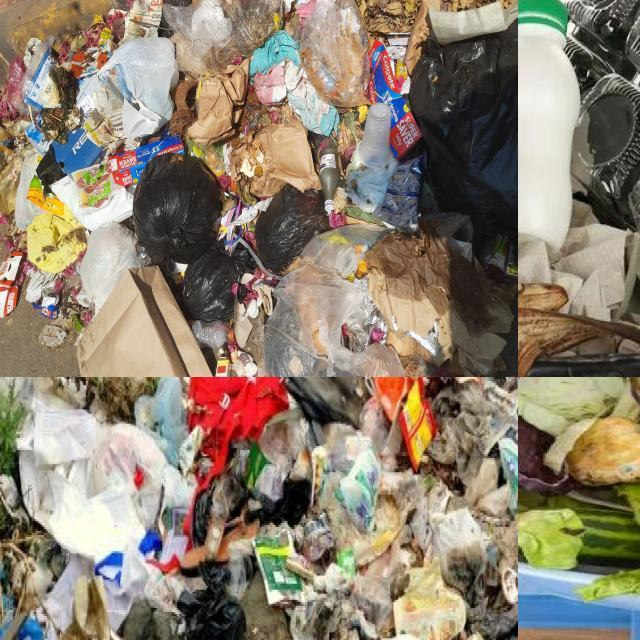Disposable: (566, 0, 640, 232), (355, 103, 392, 167), (319, 147, 340, 200)
Garbage: (0, 0, 518, 377), (0, 377, 518, 640), (518, 0, 640, 327), (518, 377, 640, 582), (518, 0, 580, 250)
Nylog_sting: (233, 226, 282, 281)
Plastic_Bag: (18, 396, 195, 559), (410, 17, 518, 257), (265, 224, 406, 377), (133, 155, 222, 264), (163, 0, 284, 74), (295, 0, 370, 109), (101, 37, 178, 140), (255, 184, 330, 273), (79, 222, 144, 314), (184, 241, 256, 321), (177, 562, 246, 640), (184, 241, 251, 321), (135, 377, 188, 466), (286, 377, 367, 426), (338, 447, 380, 532), (345, 153, 398, 213), (23, 36, 59, 111), (0, 145, 23, 215), (5, 56, 28, 116), (425, 211, 469, 237), (307, 131, 328, 166), (159, 17, 173, 37), (237, 284, 248, 303)
Plastic_Straw: (235, 200, 241, 220), (228, 244, 232, 252), (233, 225, 236, 232), (231, 235, 233, 241)
Plastic_bottle: (518, 0, 580, 251), (319, 147, 340, 215), (189, 321, 236, 348)
Plastic_wraper: (253, 523, 302, 603), (374, 155, 426, 230), (400, 377, 437, 470), (0, 252, 22, 317), (499, 437, 518, 512), (395, 59, 411, 94), (420, 182, 439, 211), (505, 246, 518, 277)
Thermocol: (429, 1, 507, 45)
contaminated_waste: (518, 0, 580, 251)
